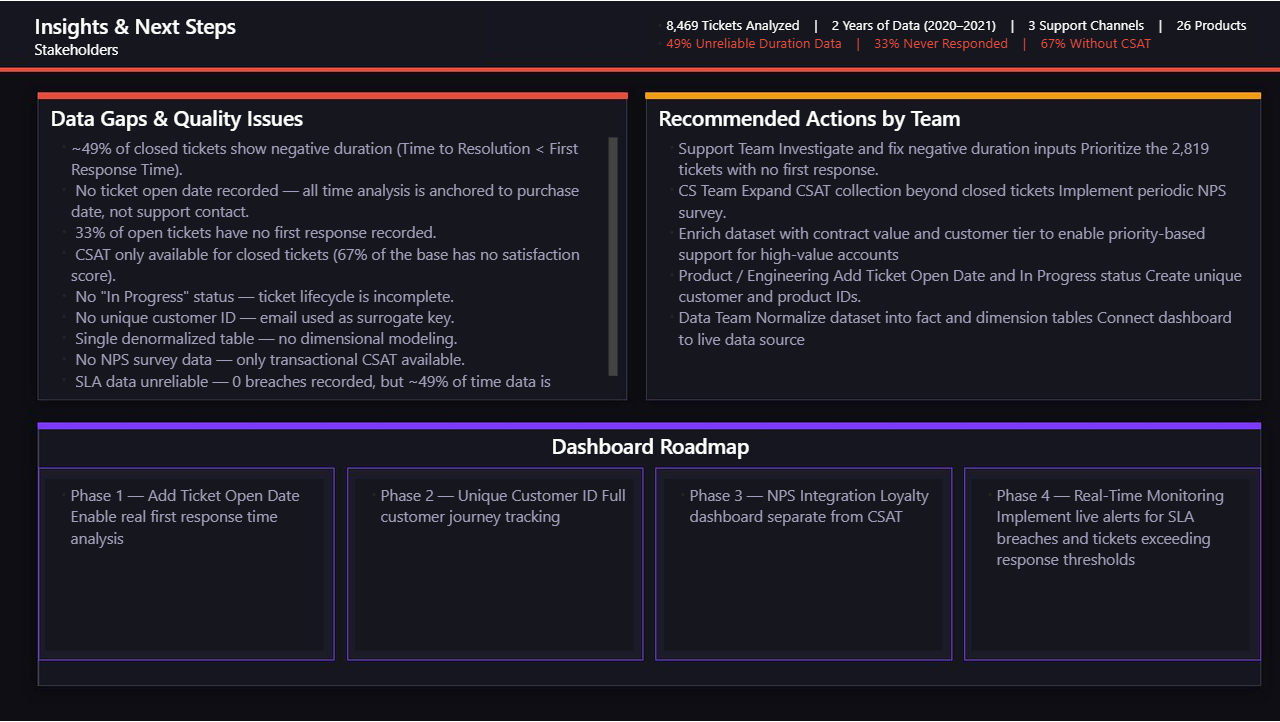

The page's visual inventory and layout, read from the dashboard file:
{"tool":"powerbi","page":{"name":"Insights & Next Steps","canvas":[1280,720],"ordinal":5},"visuals":[{"type":"textbox","box":[106.8,43.1,407.6,52.1],"z":0},{"type":"textbox","title":"Data Gaps & Quality Issues","box":[121.2,131.1,518.9,264.8],"z":1000},{"type":"textbox","title":"Recommended Actions by Team","box":[667,131.1,536,258.6],"z":2000},{"type":"textbox","box":[121.2,467.7,250.5,154.4],"z":3000},{"type":"textbox","box":[399.5,467.7,250.5,154.4],"z":4000},{"type":"textbox","box":[676.9,467.7,250.5,154.4],"z":5000},{"type":"textbox","box":[952.5,467.7,250.5,154.4],"z":6000},{"type":"textbox","box":[656.3,46.7,557.5,44],"z":7000},{"type":"textbox","title":"Dashboard Roadmap","box":[571,425.5,191.2,28.7],"z":8000}]}

Visuals, with their boxes in screenshot pixels (x1, y1, x2, y2), scaled from the page's 1280x720 canvas onto the 1280x722 screenshot:
textbox: x1=107, y1=43, x2=514, y2=95
"Data Gaps & Quality Issues" textbox: x1=121, y1=131, x2=640, y2=397
"Recommended Actions by Team" textbox: x1=667, y1=131, x2=1203, y2=391
textbox: x1=121, y1=469, x2=372, y2=624
textbox: x1=400, y1=469, x2=650, y2=624
textbox: x1=677, y1=469, x2=927, y2=624
textbox: x1=952, y1=469, x2=1203, y2=624
textbox: x1=656, y1=47, x2=1214, y2=91
"Dashboard Roadmap" textbox: x1=571, y1=427, x2=762, y2=455
